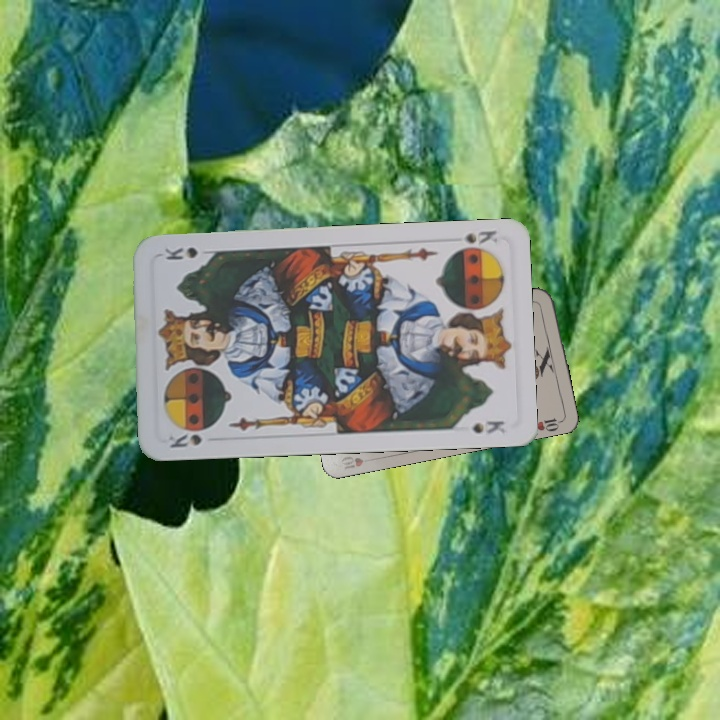H10: (337, 452, 378, 472)
SK: (449, 226, 500, 255), (164, 430, 205, 450)
